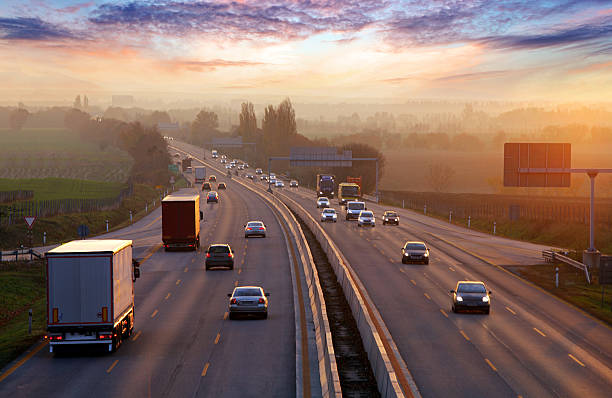car: (454, 280, 492, 313), (232, 286, 270, 317), (204, 243, 236, 269), (402, 239, 429, 266), (243, 221, 268, 237), (345, 199, 367, 215), (358, 210, 375, 226), (383, 211, 400, 225), (321, 208, 337, 222), (207, 189, 219, 203), (317, 196, 329, 208), (290, 179, 300, 189), (202, 181, 211, 192), (219, 180, 228, 189), (275, 180, 285, 188), (256, 167, 263, 175), (269, 172, 277, 179), (211, 175, 218, 182), (225, 163, 231, 170), (246, 174, 254, 179), (221, 154, 227, 160), (238, 165, 244, 170)
truck: (48, 236, 140, 357), (161, 195, 203, 251), (315, 173, 337, 197), (336, 183, 360, 203), (195, 165, 207, 184)
